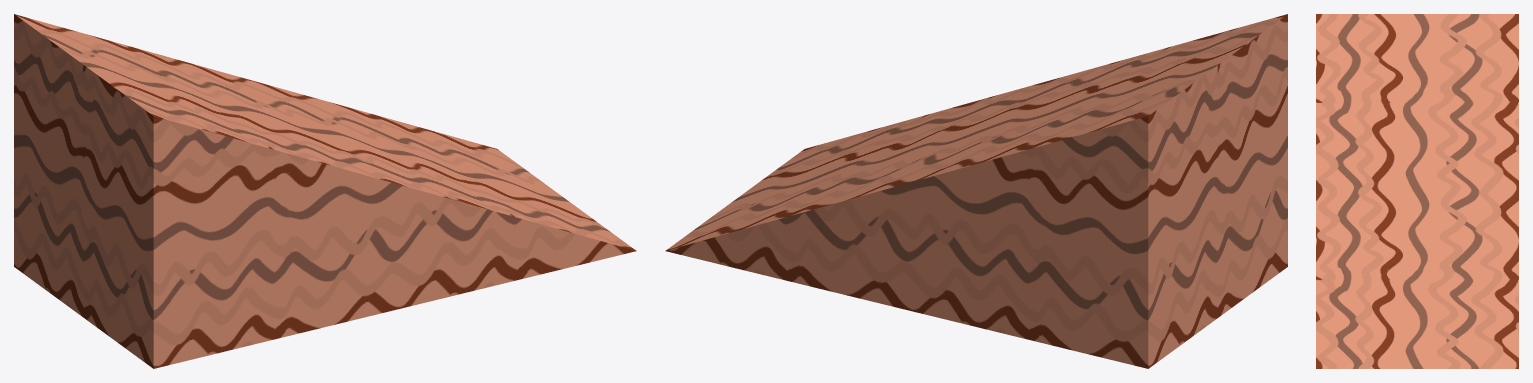
Rendered from a_z2_path_06.fbx.
3 views of the same model, side by side, from view 1: azimuth 30°, elevation 25°; view 2: azimuth 150°, elevation 25°; view 3: azimuth 270°, elevation 25° (orthographic). The views are drawn at different scales.
Parts seen in each view (by area): view 1: a_z2_groundBlock_06; view 2: a_z2_groundBlock_06; view 3: a_z2_groundBlock_06.
Boxes of the visible parts, box(x1,y1,x2,y2) form: a_z2_groundBlock_06: box(14, 14, 636, 368); a_z2_groundBlock_06: box(665, 14, 1287, 368); a_z2_groundBlock_06: box(1316, 14, 1518, 368).
Bounding box in the file's own units: 600 × 300 × 300.
1 material, 1 textured.
